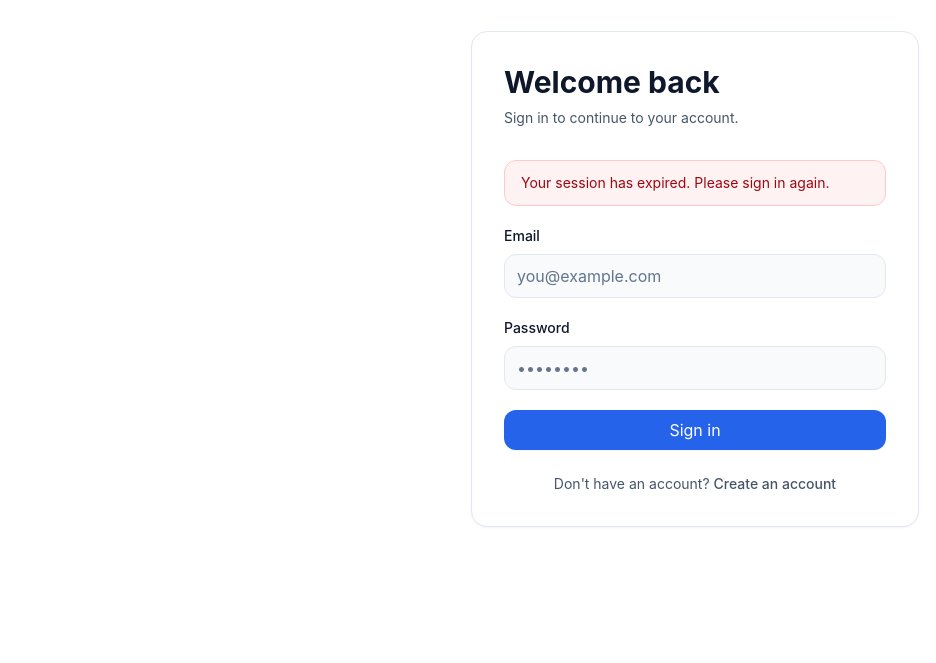
LoginPage › falls back to the profile for an external redirect
This screenshot has width=936, height=663.
Type "user@example.com" into the field labelled "Email" at (695, 276), box [504, 254, 886, 298]
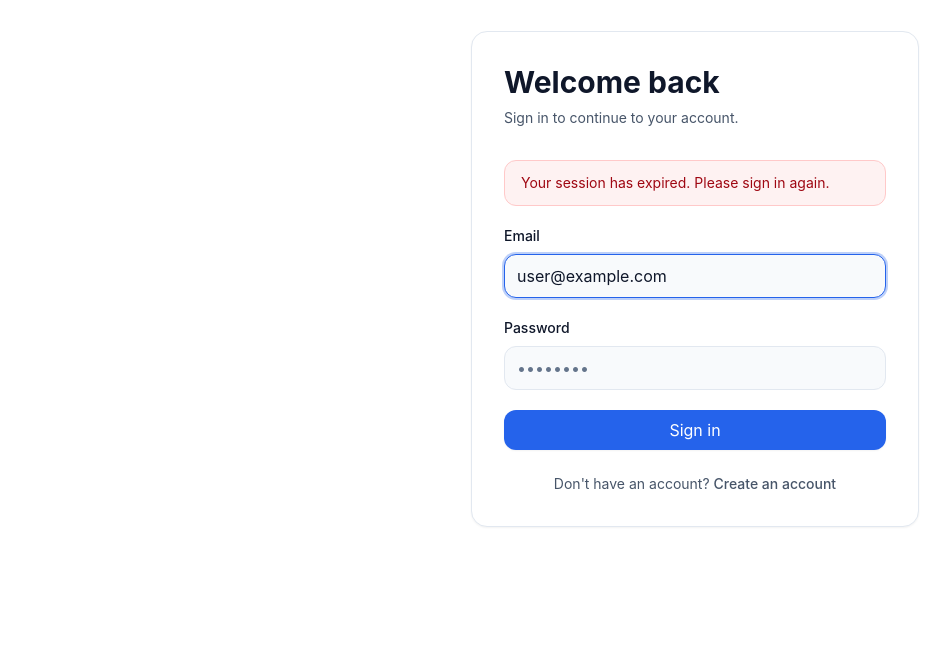
Type "password" into the password field labelled "Password" at (695, 368), box [504, 346, 886, 390]
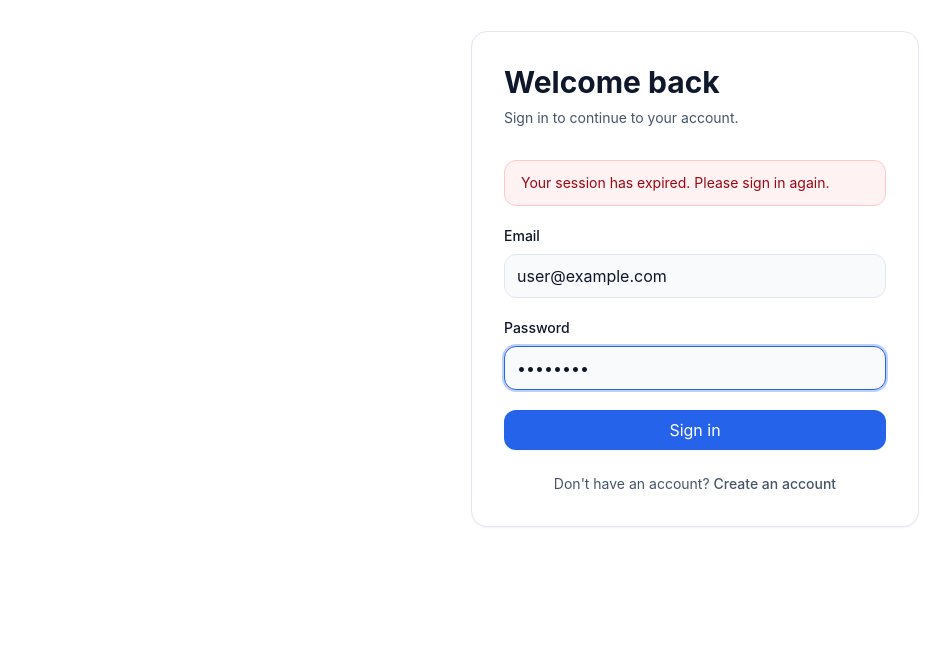
Click the button "Sign in" at (695, 430), box [504, 410, 886, 450]
(page scrolled)
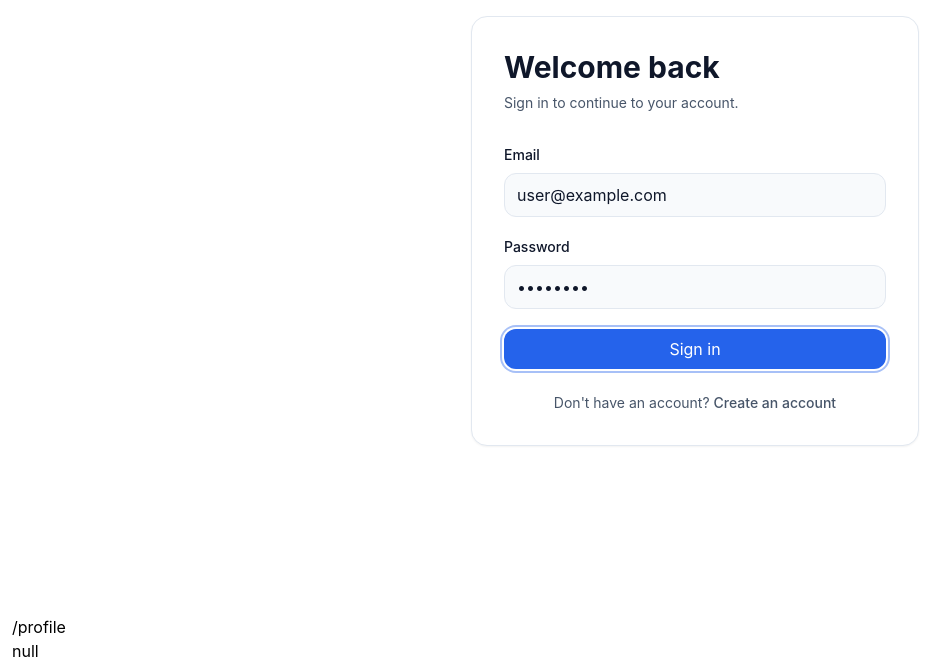
Expected: the text with test id "location" reads "/profile", [12, 617, 66, 637]
